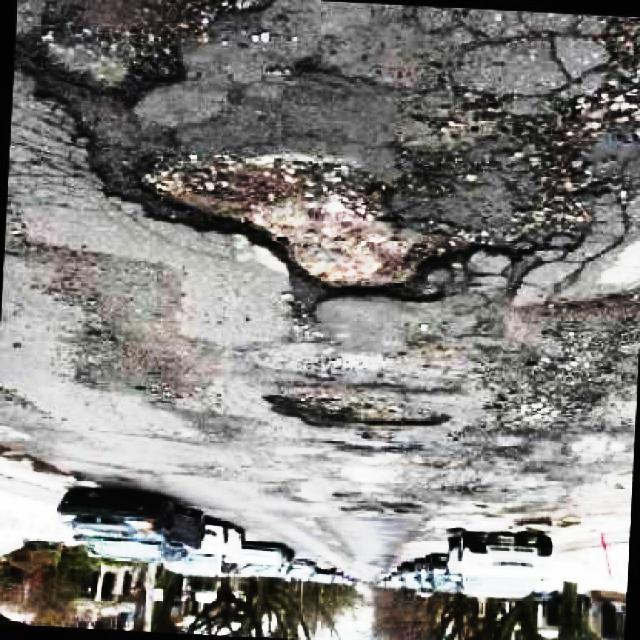pothole: (128, 138, 457, 308), (16, 0, 224, 123), (521, 289, 640, 409), (272, 386, 450, 434)
